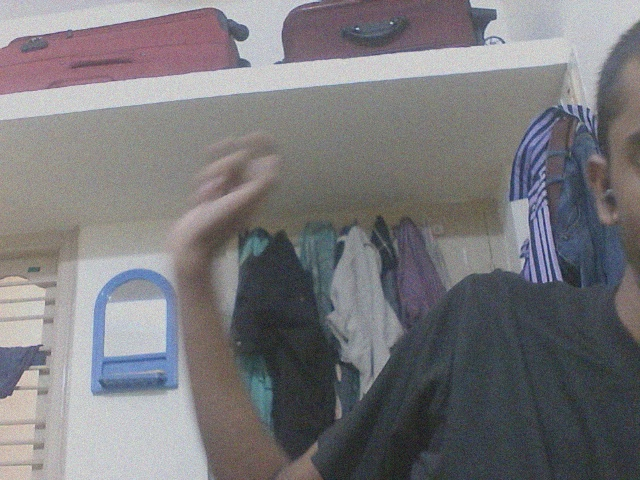hand: (167, 126, 284, 271)
